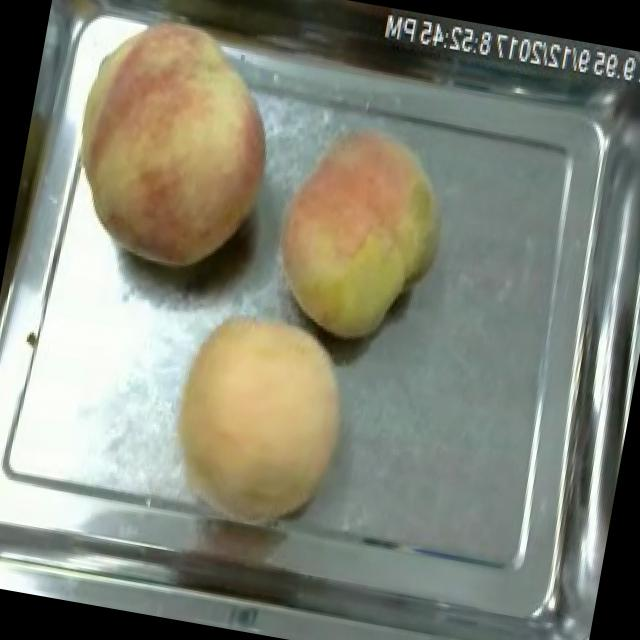Fruit: (37, 0, 300, 290), (150, 292, 370, 542), (254, 106, 466, 359)
